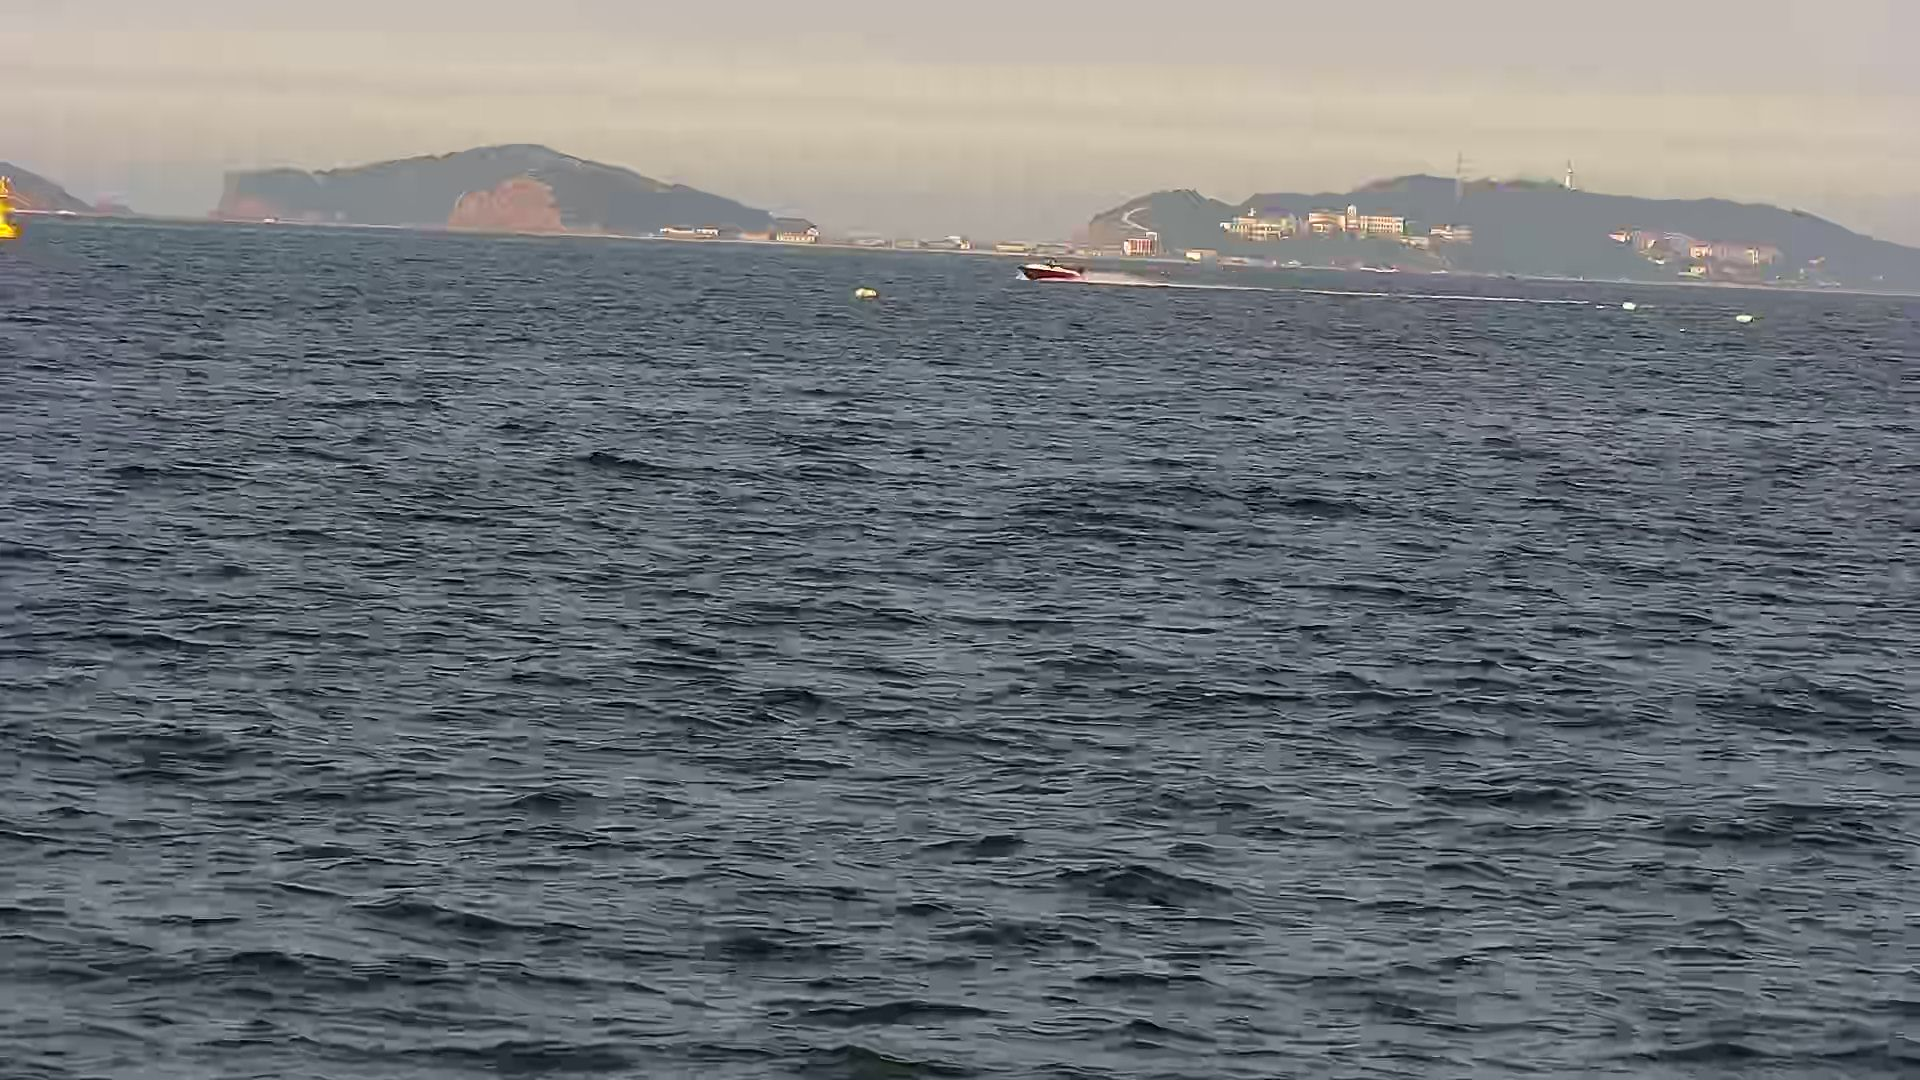ball: (853, 278, 891, 305)
boat: (1015, 245, 1093, 287)
